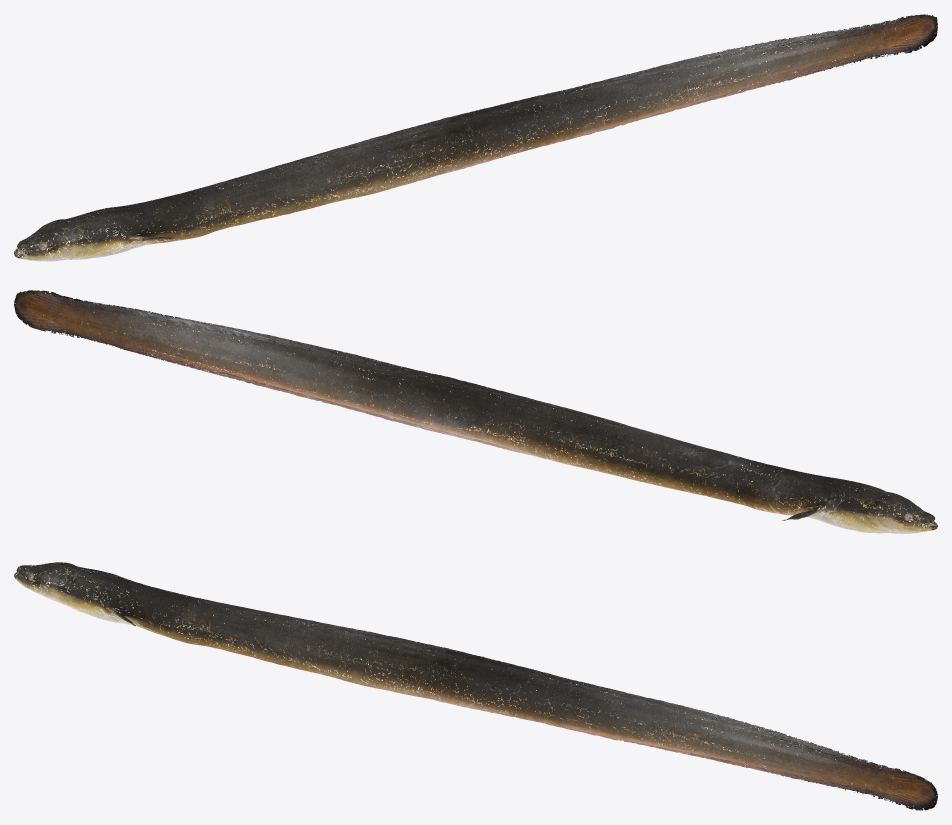
Rendered from eel.glb.
3 views of the same model, one above another, from view 1: azimuth 30°, elevation 25°; view 2: azimuth 150°, elevation 25°; view 3: azimuth 330°, elevation 25° (orthographic).
Visible parts, largest first — view 1: Object_6, Object_13; view 2: Object_6, Object_13; view 3: Object_6, Object_13.
Boxes of the visible parts, x1,y1,x2,y2 form: Object_6: (14,14,937,261); Object_13: (14,14,937,261); Object_6: (14,290,937,533); Object_13: (14,290,937,533); Object_6: (14,562,937,809); Object_13: (14,562,937,810).
Size of the model in its own units: 24.11 by 1.42 by 1.97.
2 materials, 2 textured.
